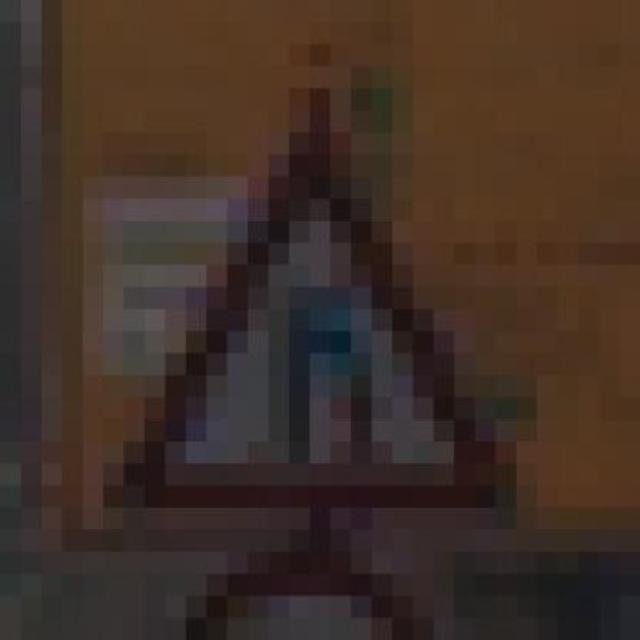-Road narrows on right: (103, 88, 537, 530)
